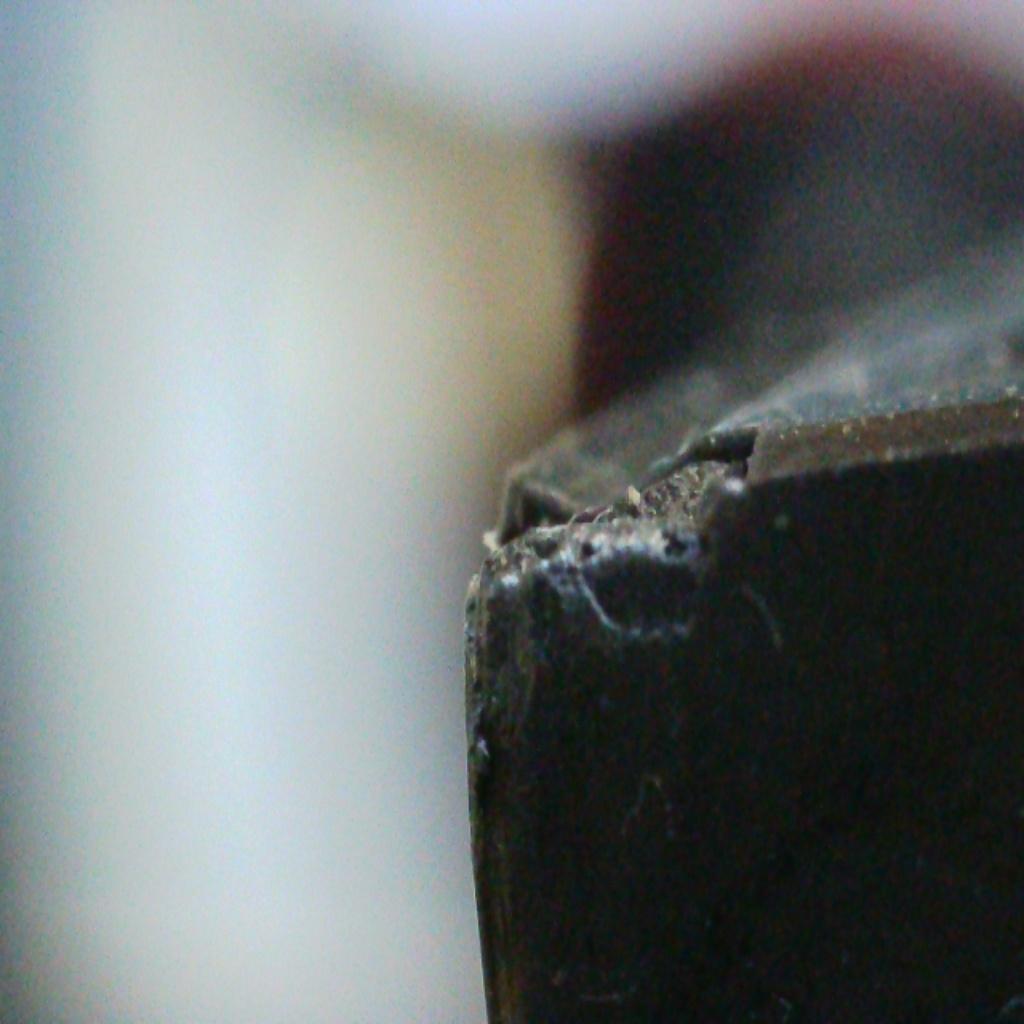flank_wear: (577, 530, 725, 653)
